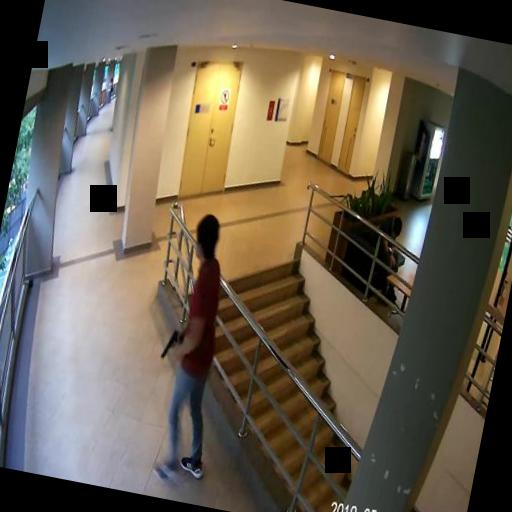Handgun: (160, 324, 184, 361)
